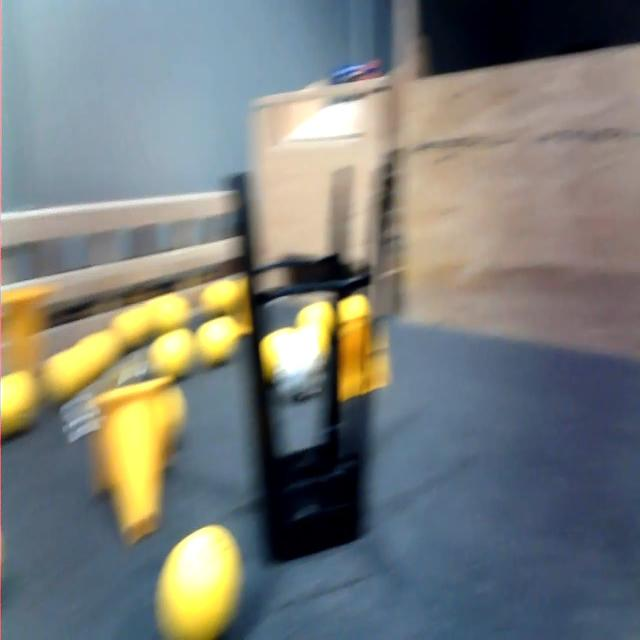fuel: (148, 510, 248, 640), (0, 359, 43, 442), (44, 344, 94, 410), (149, 321, 197, 387), (196, 313, 246, 372), (262, 321, 305, 379), (200, 269, 246, 322), (110, 297, 153, 353), (336, 282, 376, 334), (80, 328, 124, 375), (149, 291, 198, 331), (294, 298, 332, 338)
